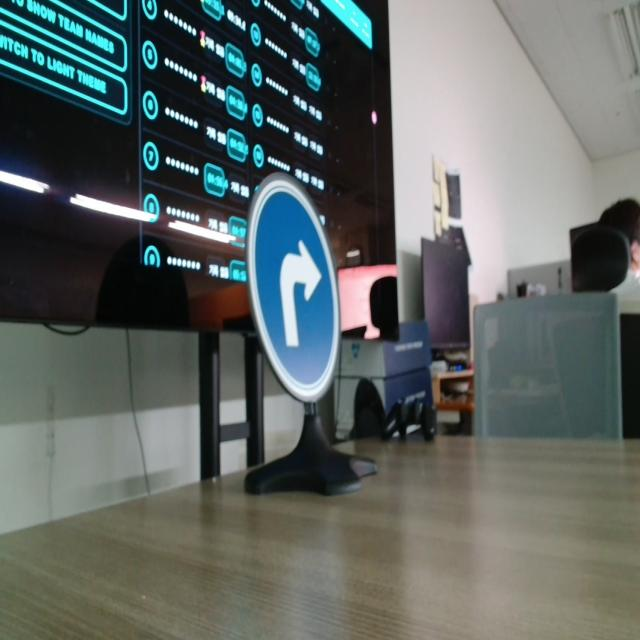right_dierection: (234, 144, 361, 415)
